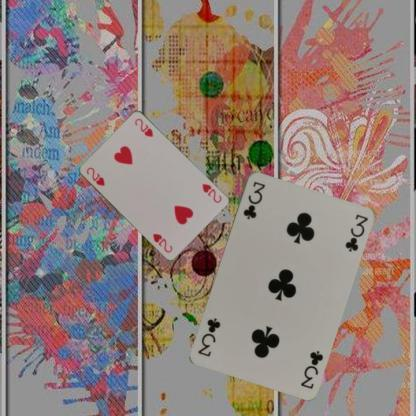2h: (83, 164, 106, 188), (199, 181, 222, 204)
3c: (240, 178, 266, 221), (298, 348, 324, 390)
